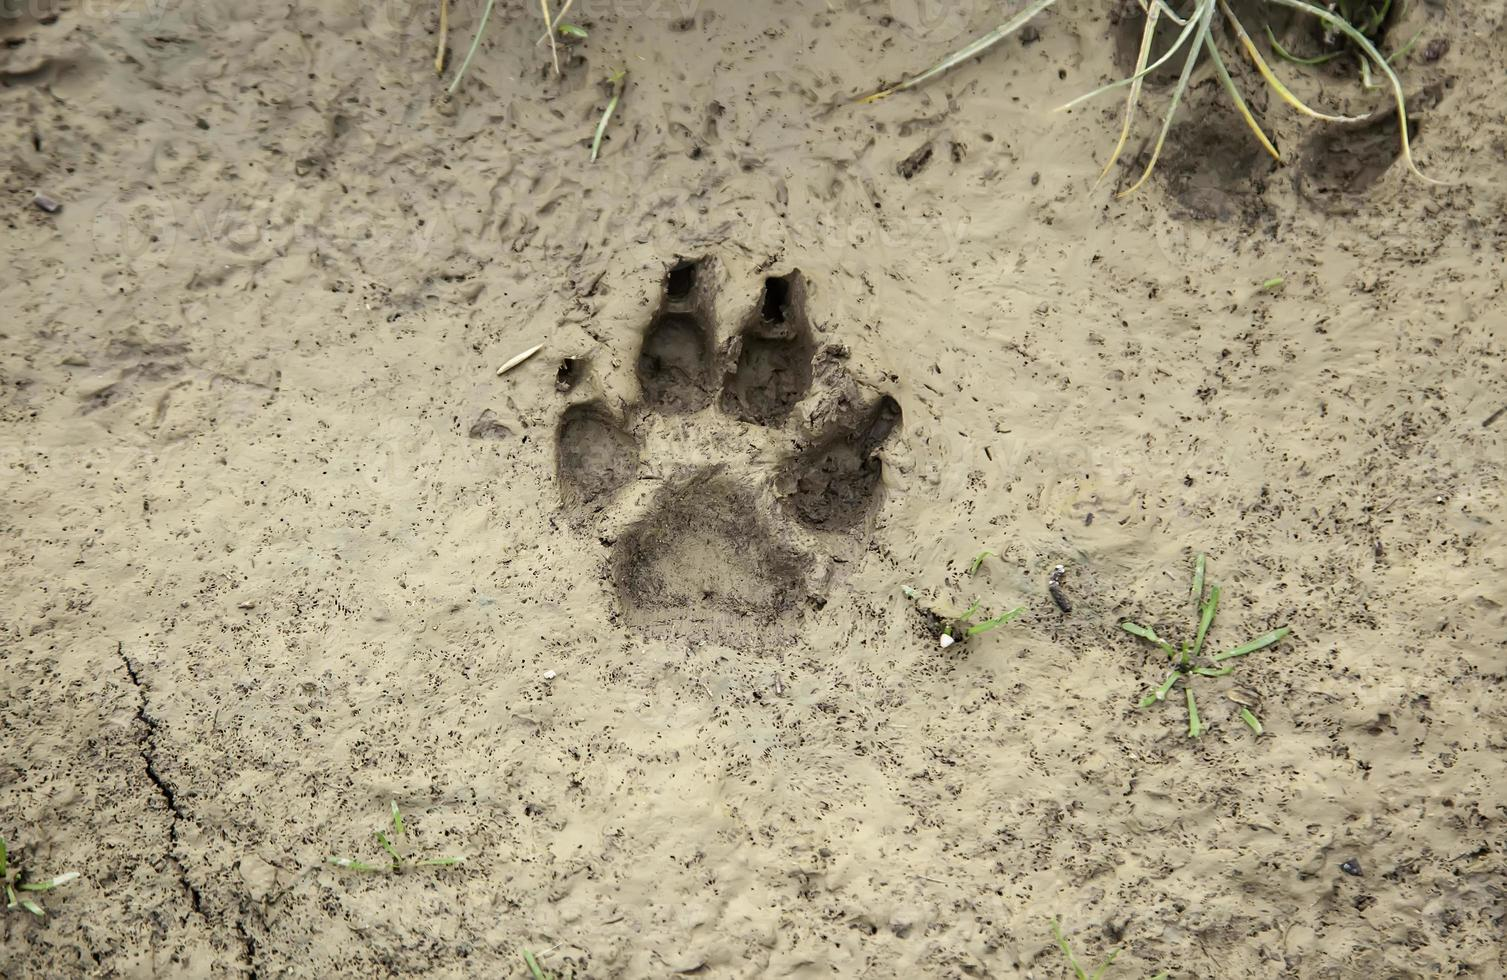chien: (547, 256, 902, 664)
